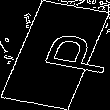P_W: (10, 30, 100, 80)
